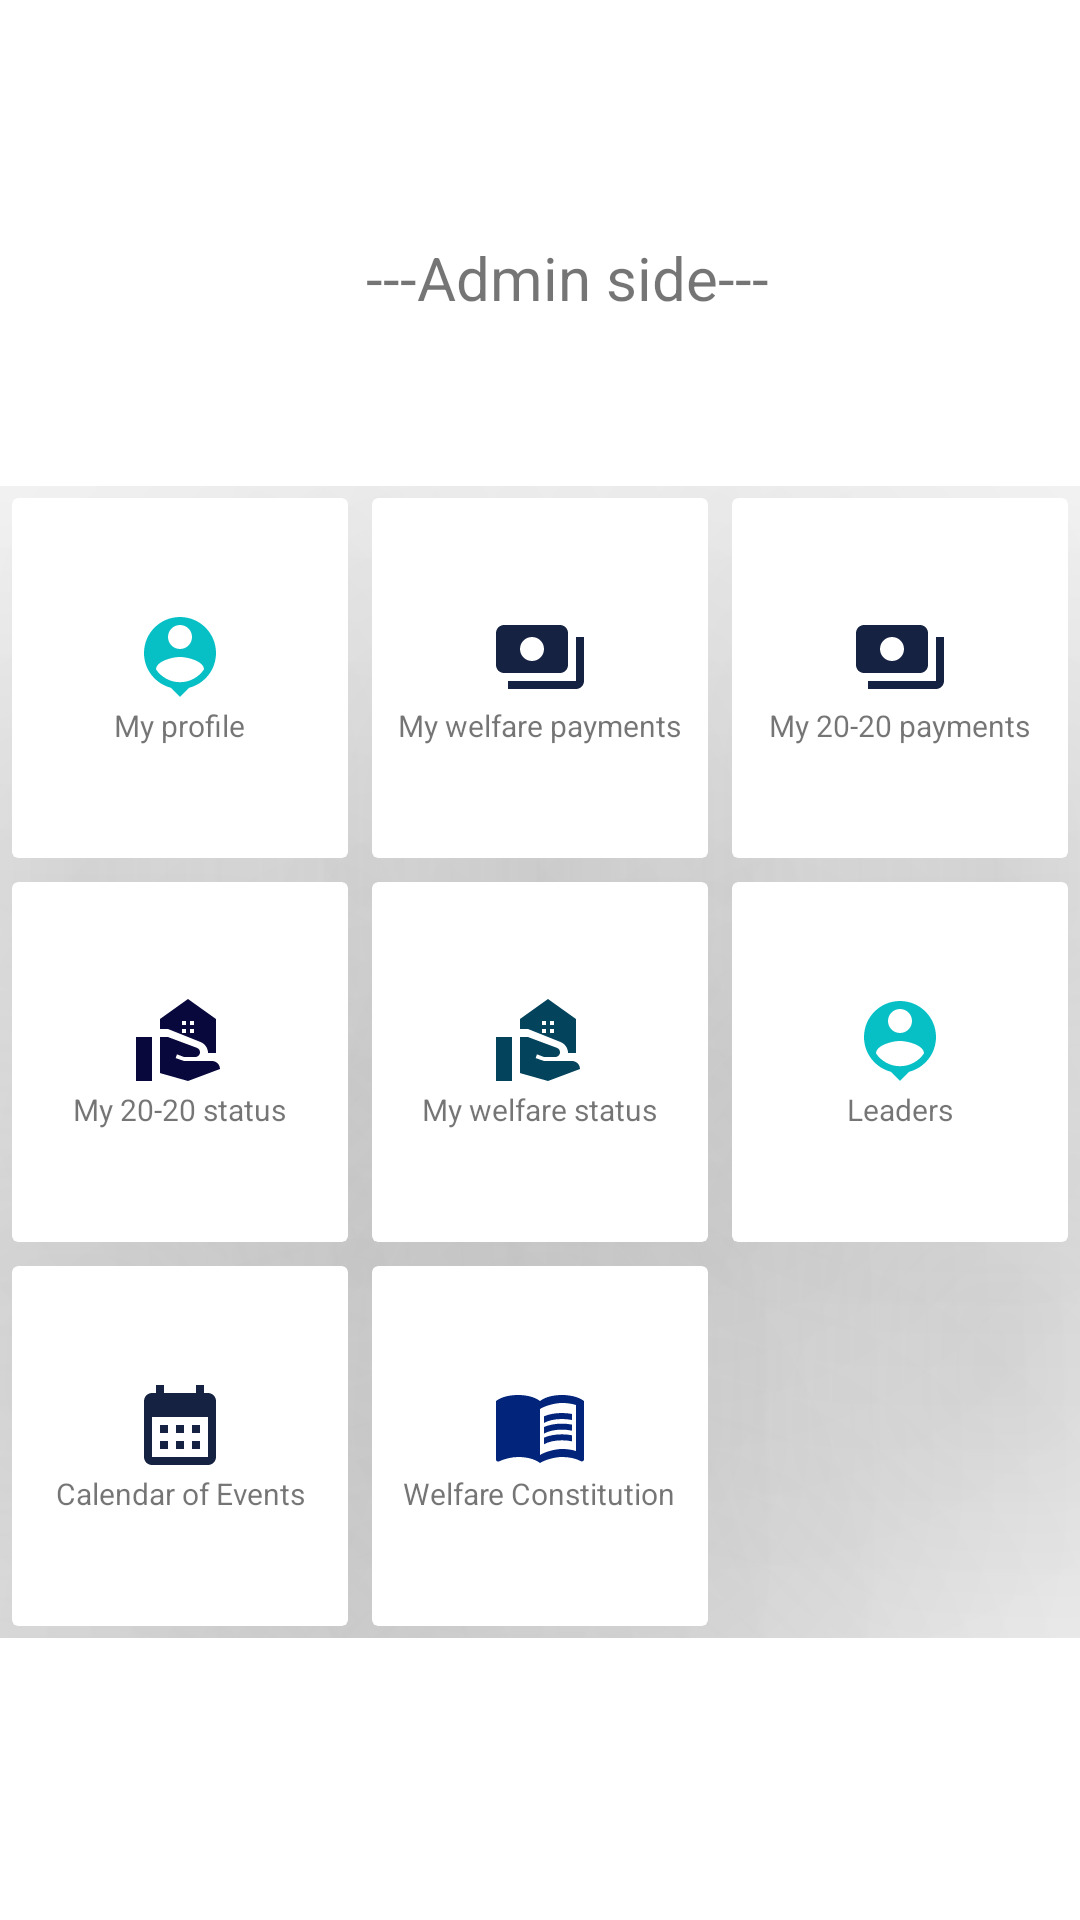

Screen size 1080px×1920px. Icon name, then its center in pixels as point (x, y):
book: point (540, 1429)
person pin: point (180, 657), point (900, 1041)
